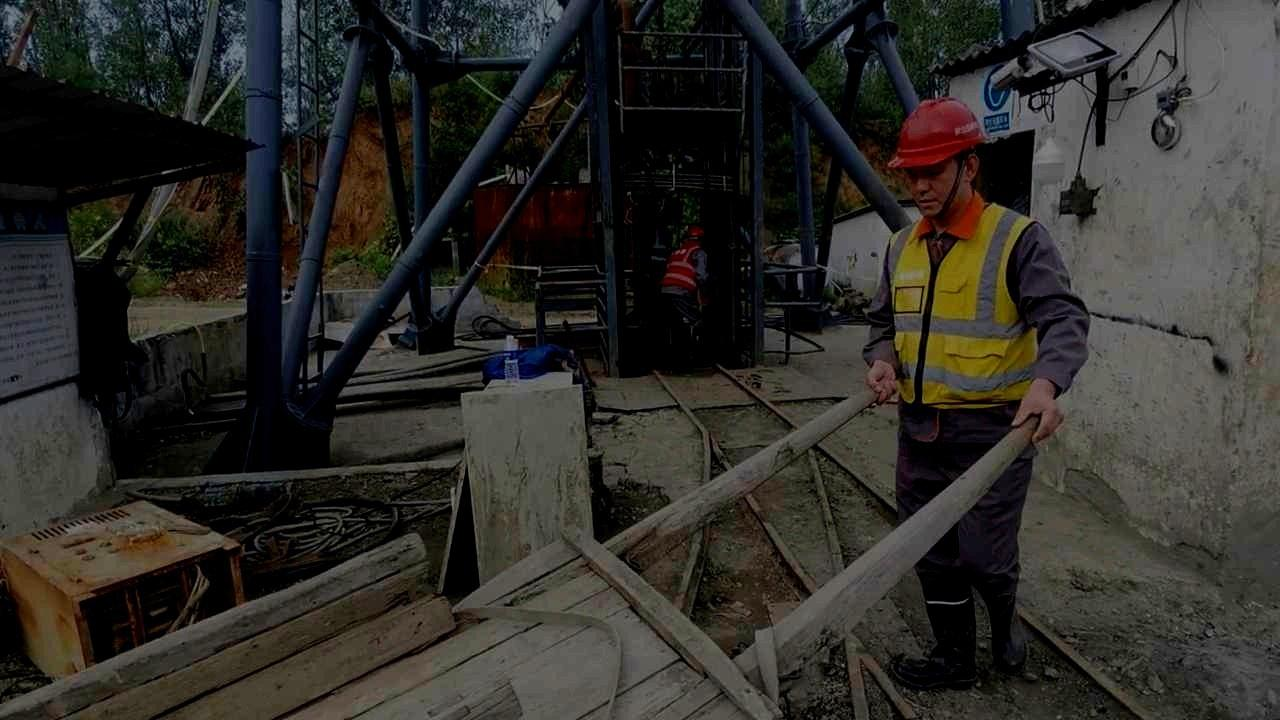helmet: (887, 97, 988, 220), (685, 226, 703, 243)
